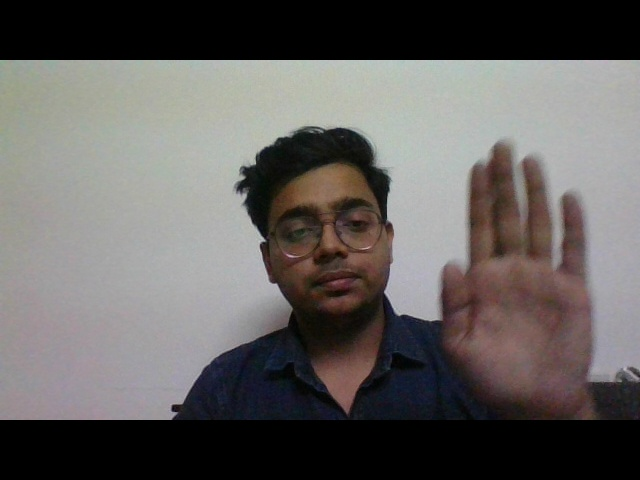Hello: (411, 129, 621, 426)
